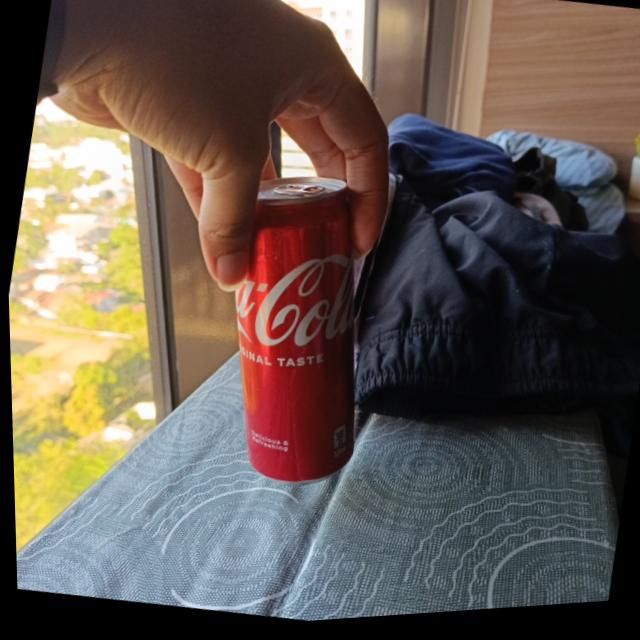coke: (193, 166, 396, 501)
